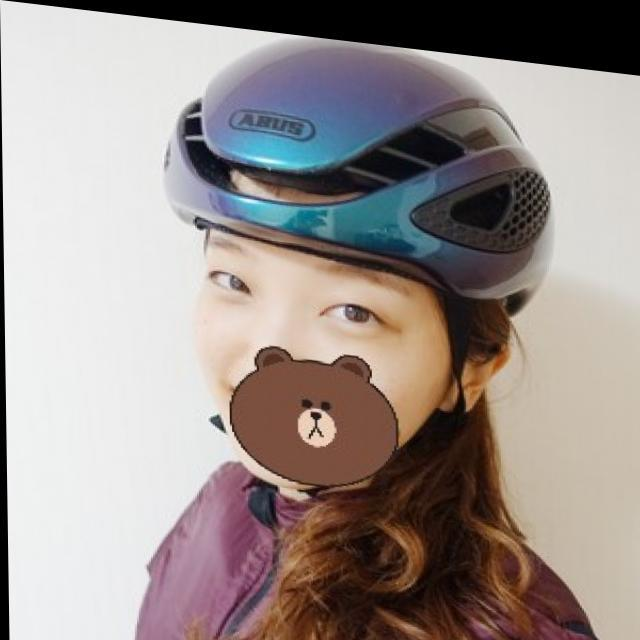Helmet: (149, 38, 557, 510)
